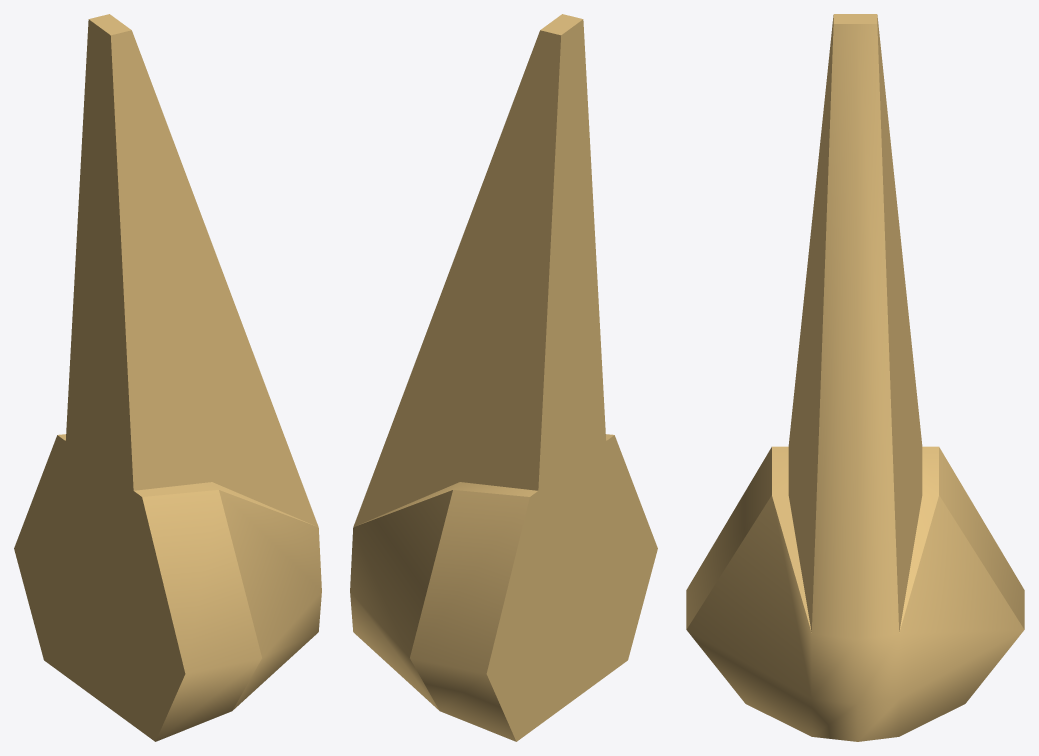
File: nose.fbx
3 views of the same model, side by side, from view 1: azimuth 30°, elevation 25°; view 2: azimuth 150°, elevation 25°; view 3: azimuth 270°, elevation 25° (orthographic).
Parts seen in each view (by area): view 1: pCube3; view 2: pCube3; view 3: pCube3.
Part boxes in pixels (left/top/right/bottom): pCube3: left=14, top=14, right=321, bottom=741; pCube3: left=350, top=14, right=657, bottom=741; pCube3: left=686, top=14, right=1024, bottom=741.
Bounding box in the file's own units: 0.403 × 1.23 × 0.5674.
